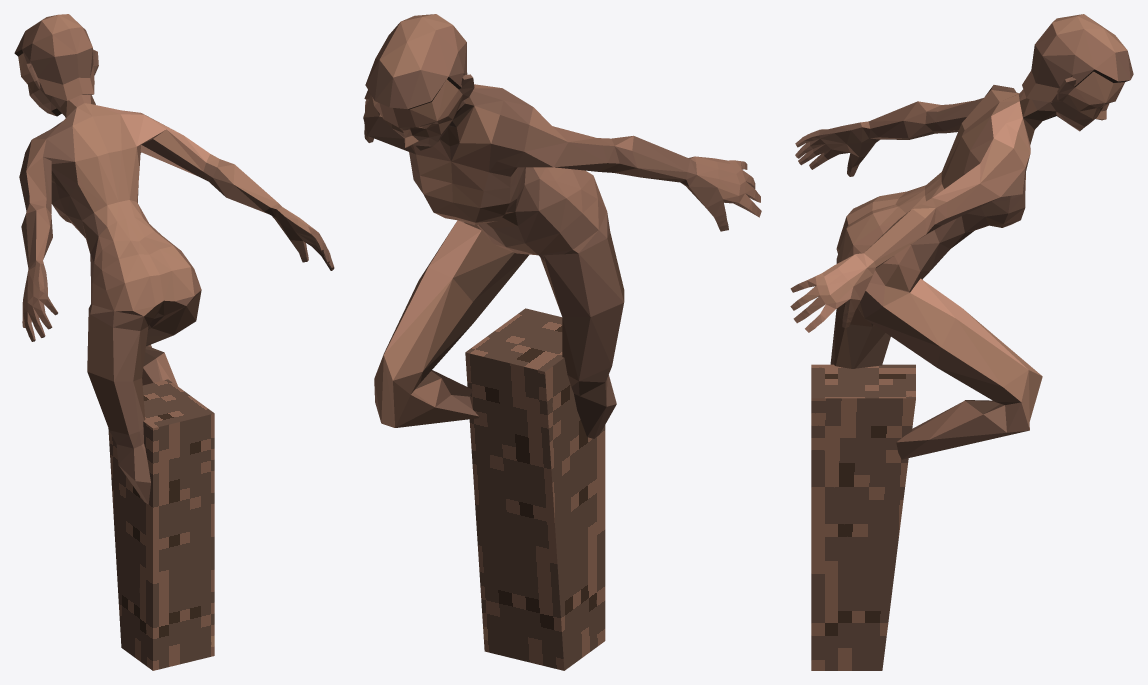
File: ship_figure_head_01.gltf
3 renders of one model, left to right at view 1: azimuth 30°, elevation 25°; view 2: azimuth 150°, elevation 25°; view 3: azimuth 270°, elevation 25°, orthographic. The views are drawn at different scales.
Parts seen in each view (by area): view 1: ship_figure_head_01; view 2: ship_figure_head_01; view 3: ship_figure_head_01.
Part boxes in pixels (left/top/right/bottom): ship_figure_head_01: left=14, top=14, right=334, bottom=670; ship_figure_head_01: left=363, top=14, right=761, bottom=670; ship_figure_head_01: left=790, top=14, right=1133, bottom=670.
Bounding box in the file's own units: 3.82 × 6.87 × 3.37.
1 material, 1 textured.
